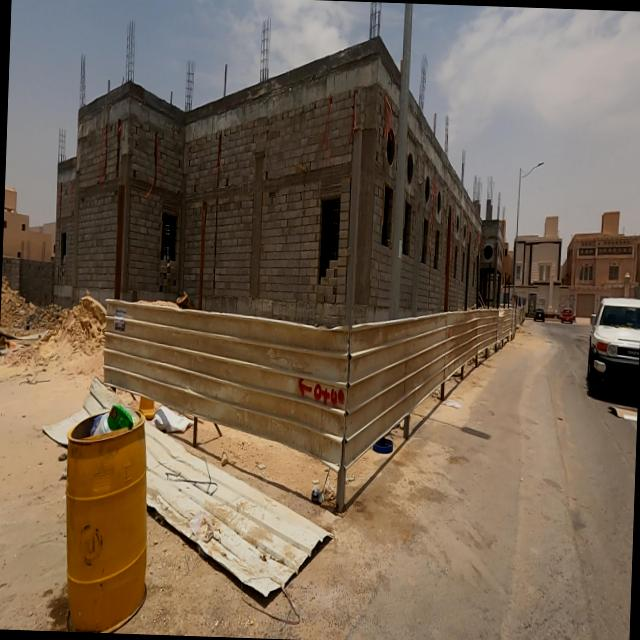Graffiti: (296, 378, 346, 409)
